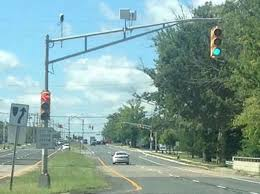signal: (210, 25, 223, 58), (40, 90, 51, 120)
